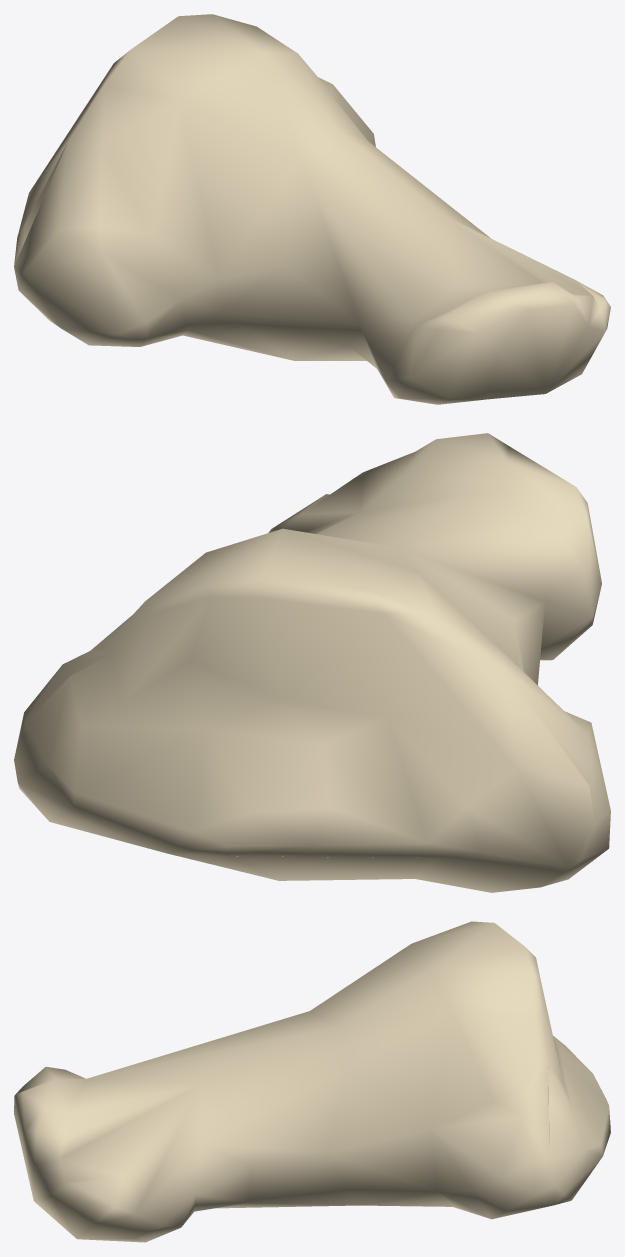
Rendered from esqueleto-distal-phalanx-of-first-finger-of-foot-l.glb.
The picture shows the model from 3 angles, top to bottom: view 1: azimuth 30°, elevation 25°; view 2: azimuth 150°, elevation 25°; view 3: azimuth 270°, elevation 25°; orthographic projection. The views are drawn at different scales.
Visible parts, largest first — view 1: Distal phalanx of first finger of foot.l; view 2: Distal phalanx of first finger of foot.l; view 3: Distal phalanx of first finger of foot.l.
Part boxes in pixels (left/top/right/bottom): Distal phalanx of first finger of foot.l: left=14, top=14, right=610, bottom=404; Distal phalanx of first finger of foot.l: left=14, top=433, right=610, bottom=892; Distal phalanx of first finger of foot.l: left=14, top=921, right=610, bottom=1242.
Bounding box in the file's own units: 0.0207 × 0.0115 × 0.0268.
